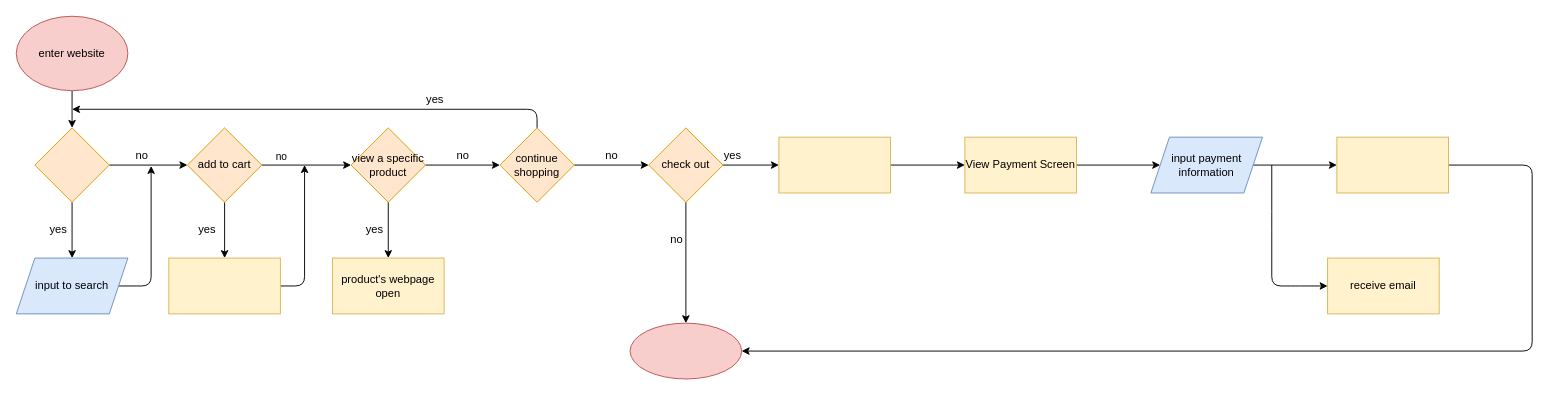
The diagram is 1556 pixels wide and 395 high, and some of its shapes have lost their labels. Each missing label, with the centre of its shape:
"added to cart confirmation" belongs at point (224, 285).
"leave website" belongs at point (685, 350).
"order confirmation screen" belongs at point (1392, 164).
"search for a product" belongs at point (71, 164).
"View Cart Screen" belongs at point (834, 164).
